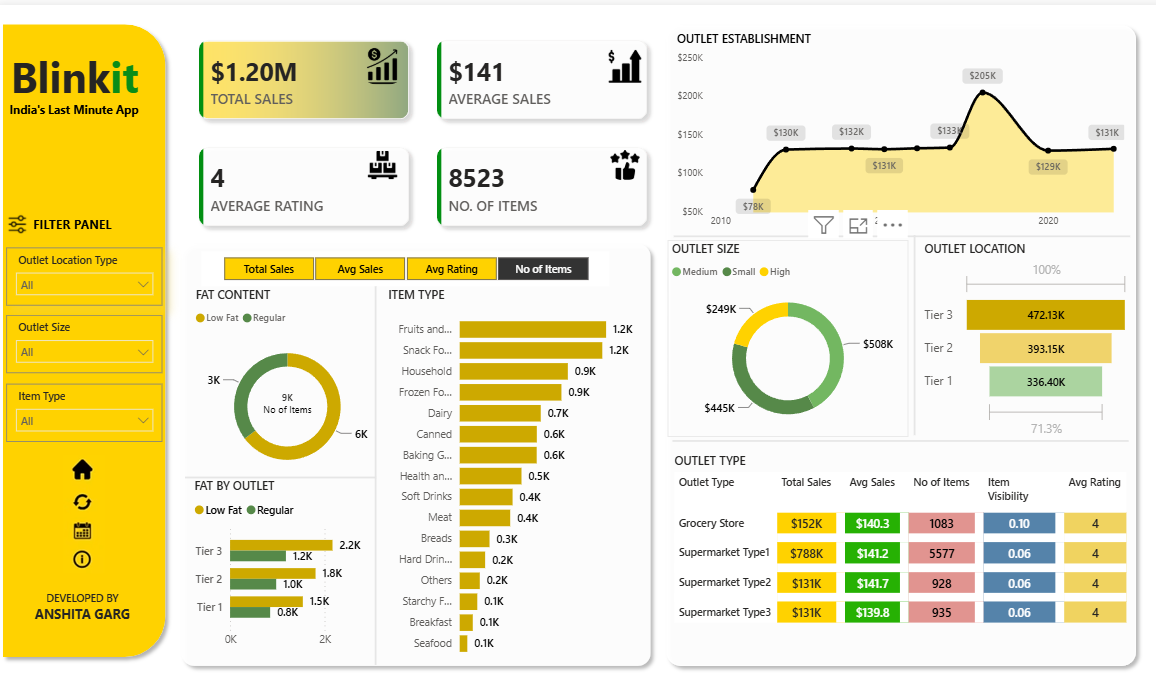

The page's visual inventory and layout, read from the dashboard file:
{"tool":"powerbi","page":{"name":"Page 1","canvas":[1400,800],"ordinal":0},"visuals":[{"type":"shape","box":[0,12.5,203.8,741.2],"z":0},{"type":"textbox","box":[12.9,44,178.5,90.5],"z":1000},{"type":"textbox","box":[12,106,210,28],"z":2000},{"type":"cardVisual","fields":{"Data":["BlinkIT Grocery Data.Total Sales","BlinkIT Grocery Data.Avg Sales","BlinkIT Grocery Data.Avg Rating","BlinkIT Grocery Data.No of Items"]},"box":[204,12,570,270],"z":3000},{"type":"image","box":[416,48,54,42],"z":4000},{"type":"image","box":[700,166,40,34],"z":5000},{"type":"image","box":[416,166,54,34],"z":6000},{"type":"image","box":[700,50,40,40],"z":7000},{"type":"shape","box":[204,264,554,500],"z":8000},{"type":"donutChart","title":"FAT CONTENT","fields":{"Y":["BlinkIT Grocery Data.No of Items"],"Category":["BlinkIT Grocery Data.Item Fat Content"]},"box":[224,322,220,230],"z":9000},{"type":"slicer","fields":{"Values":["Metrics.Metrics"]},"box":[236,282,466,40],"z":10000},{"type":"cardVisual","fields":{"Data":["BlinkIT Grocery Data.No of Items"]},"box":[274.3,418.6,120,74.3],"z":11000},{"type":"clusteredBarChart","title":"FAT BY OUTLET","fields":{"Y":["BlinkIT Grocery Data.No of Items"],"Category":["BlinkIT Grocery Data.Outlet Location Type"],"Series":["BlinkIT Grocery Data.Item Fat Content"]},"box":[222.5,540,220,203.8],"z":12000},{"type":"shape","box":[217.1,528.6,218.6,22.9],"z":13000},{"type":"shape","box":[427.1,321.4,15.7,432.9],"z":14000},{"type":"barChart","title":"ITEM TYPE ","fields":{"Y":["BlinkIT Grocery Data.No of Items"],"Category":["BlinkIT Grocery Data.Item Type"]},"box":[444.3,321.4,295.7,432.9],"z":15000},{"type":"shape","box":[758.6,14.3,554.3,750],"z":16000},{"type":"lineChart","title":"OUTLET ESTABLISHMENT","fields":{"Y":["BlinkIT Grocery Data.Total Sales"],"Category":["BlinkIT Grocery Data.Outlet Establishment Year"]},"box":[774.3,28.6,521.4,235.7],"z":17000},{"type":"shape","box":[775,250.8,521.7,25.8],"z":18000},{"type":"donutChart","title":"OUTLET SIZE","fields":{"Y":["BlinkIT Grocery Data.Total Sales"],"Category":["BlinkIT Grocery Data.Outlet Size"]},"box":[768.6,268.6,275.7,225.7],"z":19000},{"type":"shape","box":[1044.2,263.3,13.3,229.2],"z":20000},{"type":"funnel","title":"OUTLET LOCATION","fields":{"Category":["BlinkIT Grocery Data.Outlet Location Type"],"Y":["Sum(BlinkIT Grocery Data.Sales)"]},"box":[1057.1,268.6,244.3,230],"z":21000},{"type":"shape","box":[773.8,486.2,521.2,25],"z":22000},{"type":"pivotTable","title":"OUTLET TYPE","fields":{"Rows":["BlinkIT Grocery Data.Outlet Type"],"Values":["BlinkIT Grocery Data.Total Sales","BlinkIT Grocery Data.Avg Sales","BlinkIT Grocery Data.No of Items","Avg(BlinkIT Grocery Data.Item Visibility)","BlinkIT Grocery Data.Avg Rating"]},"box":[775,506.2,526.2,235],"z":23000},{"type":"slicer","fields":{"Values":["BlinkIT Grocery Data.Outlet Location Type"]},"box":[12.5,277.5,178.8,66.2],"z":24000},{"type":"slicer","fields":{"Values":["BlinkIT Grocery Data.Outlet Size"]},"box":[12.5,355,178.8,66.2],"z":25000},{"type":"slicer","fields":{"Values":["BlinkIT Grocery Data.Item Type"]},"box":[12.5,432.5,178.8,66.2],"z":26000},{"type":"textbox","box":[38.8,235,137.5,33.8],"z":26001},{"type":"image","box":[12.5,216.2,23.8,66.2],"z":26002},{"type":"image","box":[77.5,513.8,48.8,135],"z":26003},{"type":"textbox","box":[8.8,662.5,182.5,66.2],"z":26004}]}

Visuals, with their boxes on the page's 1400x800 design canvas (x1, y1, x2, y2). These are canvas units, not pixel positions in the 1156x693 screenshot, which may show the page scaled, cropped or inside an application window:
shape: BBox(0, 12, 204, 754)
textbox: BBox(13, 44, 191, 134)
textbox: BBox(12, 106, 222, 134)
cardVisual - BlinkIT Grocery Data.Total Sales x BlinkIT Grocery Data.Avg Sales: BBox(204, 12, 774, 282)
image: BBox(416, 48, 470, 90)
image: BBox(700, 166, 740, 200)
image: BBox(416, 166, 470, 200)
image: BBox(700, 50, 740, 90)
shape: BBox(204, 264, 758, 764)
"FAT CONTENT" donutChart: BBox(224, 322, 444, 552)
slicer - Metrics.Metrics: BBox(236, 282, 702, 322)
cardVisual - BlinkIT Grocery Data.No of Items: BBox(274, 419, 394, 493)
"FAT BY OUTLET" clusteredBarChart: BBox(222, 540, 442, 744)
shape: BBox(217, 529, 436, 552)
shape: BBox(427, 321, 443, 754)
"ITEM TYPE " barChart: BBox(444, 321, 740, 754)
shape: BBox(759, 14, 1313, 764)
"OUTLET ESTABLISHMENT" lineChart: BBox(774, 29, 1296, 264)
shape: BBox(775, 251, 1297, 277)
"OUTLET SIZE" donutChart: BBox(769, 269, 1044, 494)
shape: BBox(1044, 263, 1058, 492)
"OUTLET LOCATION" funnel: BBox(1057, 269, 1301, 499)
shape: BBox(774, 486, 1295, 511)
"OUTLET TYPE" pivotTable: BBox(775, 506, 1301, 741)
slicer - BlinkIT Grocery Data.Outlet Location Type: BBox(12, 278, 191, 344)
slicer - BlinkIT Grocery Data.Outlet Size: BBox(12, 355, 191, 421)
slicer - BlinkIT Grocery Data.Item Type: BBox(12, 432, 191, 499)
textbox: BBox(39, 235, 176, 269)
image: BBox(12, 216, 36, 282)
image: BBox(78, 514, 126, 649)
textbox: BBox(9, 662, 191, 729)
